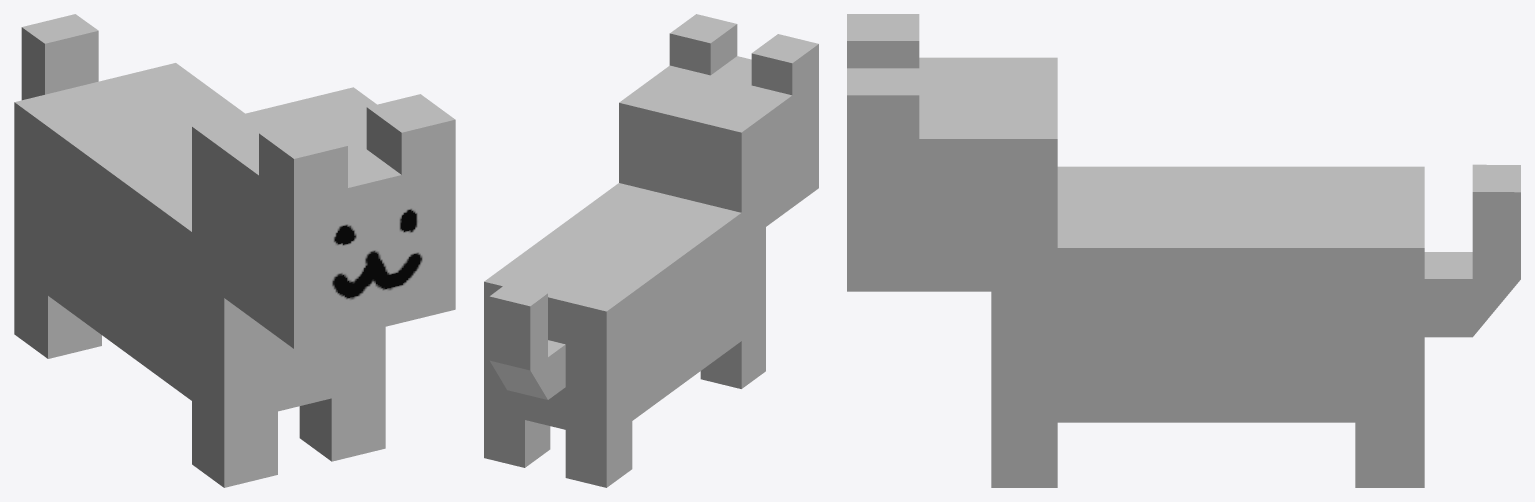
The model's file is meow.fbx.
3 views of the same model, side by side, from view 1: azimuth 30°, elevation 25°; view 2: azimuth 150°, elevation 25°; view 3: azimuth 270°, elevation 25° (orthographic). The views are drawn at different scales.
Parts seen in each view (by area): view 1: Cube; view 2: Cube; view 3: Cube.
Boxes of the visible parts, x1,y1,x2,y2 form: Cube: [14, 14, 455, 487]; Cube: [484, 14, 818, 487]; Cube: [847, 14, 1520, 487].
Size of the model in its own units: 40 by 90 by 140.
